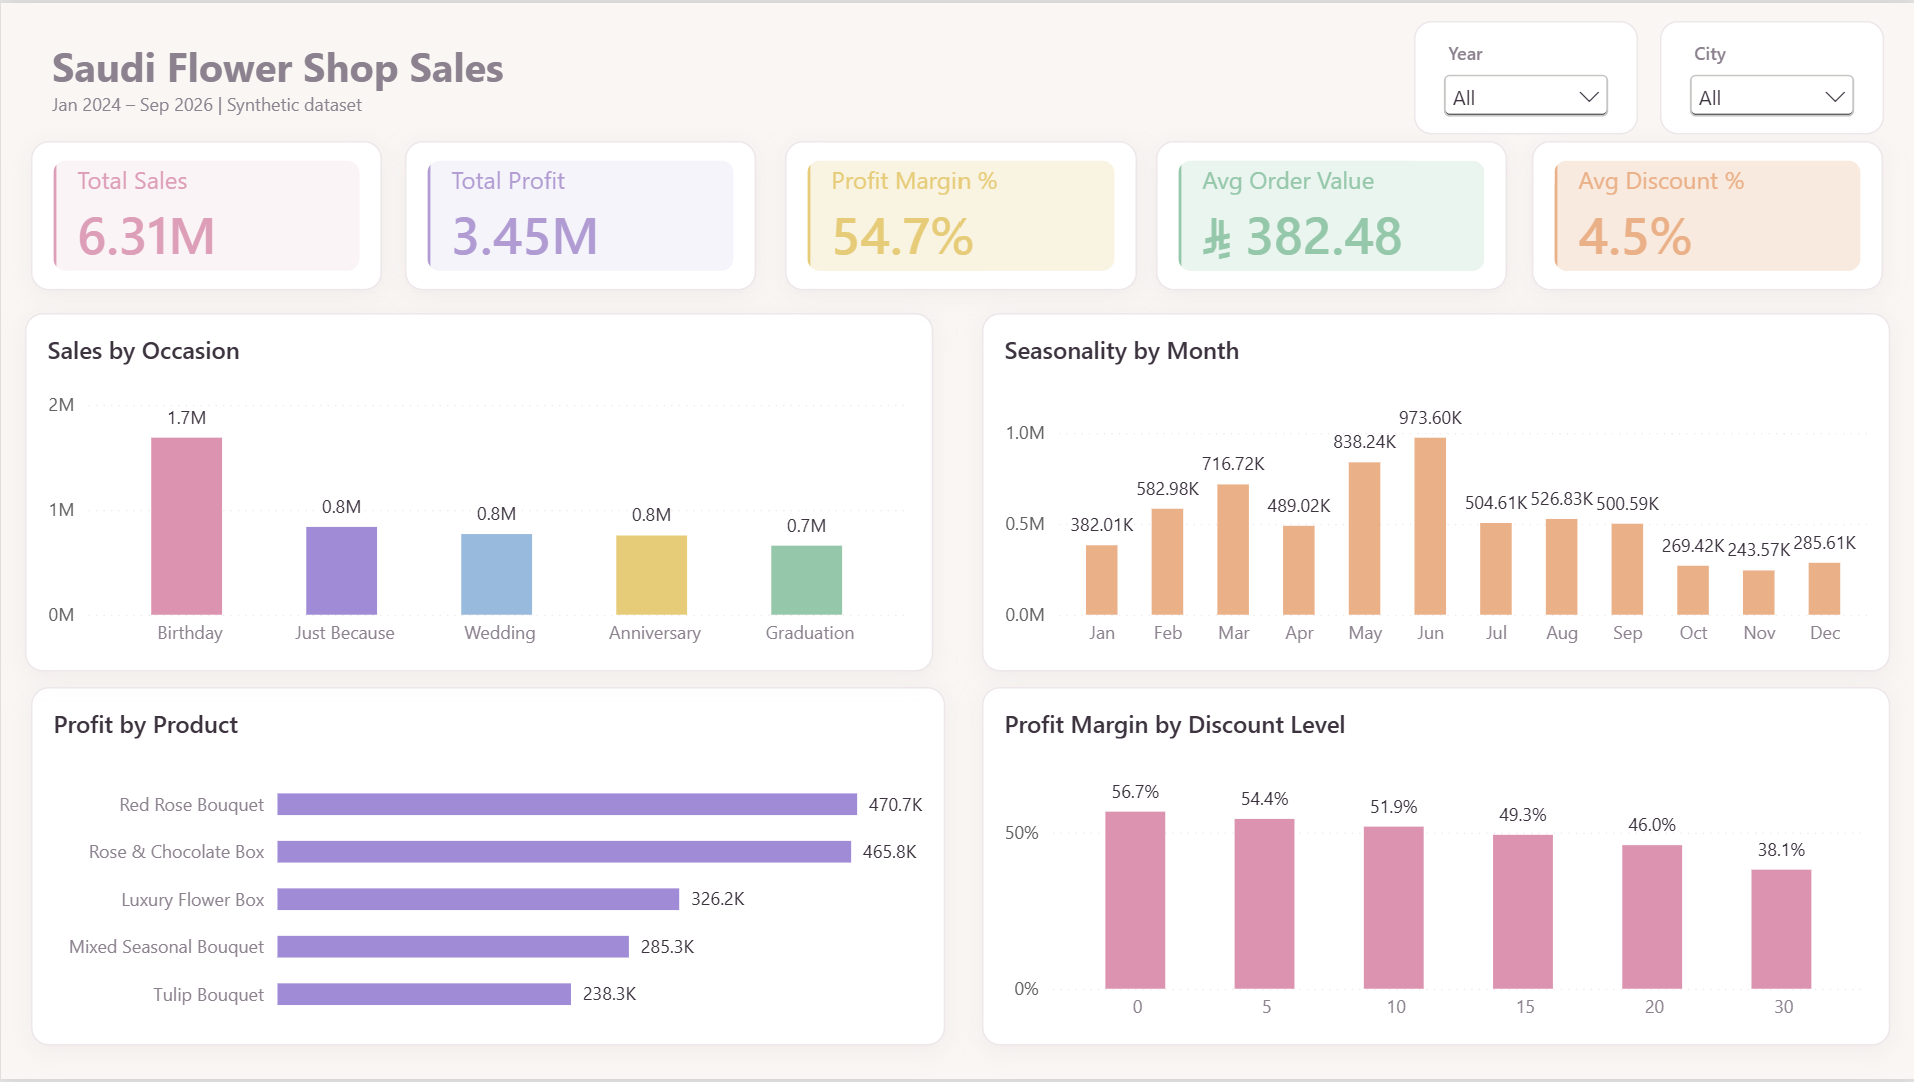

The dashboard page shown, as its layout file describes it:
{"tool":"powerbi","page":{"name":"Occasions & Products","canvas":[1280,720],"ordinal":1},"visuals":[{"type":"textbox","box":[20,12,600,76],"z":0},{"type":"clusteredBarChart","title":"Profit by Product","fields":{"Category":["saudi_flower_shop_sales.product_name"],"Y":["Sum(saudi_flower_shop_sales.Total Profi)"]},"box":[20,458,612,240],"z":1000},{"type":"clusteredColumnChart","title":"Seasonality by Month","fields":{"Category":["Date.Month"],"Y":["saudi_flower_shop_sales.Total Sales"]},"box":[656,208,608,240],"z":2000},{"type":"clusteredColumnChart","title":"Profit Margin by Discount Level","fields":{"Category":["saudi_flower_shop_sales.discount_pct"],"Y":["saudi_flower_shop_sales.Profit Margin %"]},"box":[656,458,608,240],"z":3000},{"type":"slicer","fields":{"Values":["Date.Year"]},"box":[945,12,150,76],"z":4000},{"type":"slicer","fields":{"Values":["saudi_flower_shop_sales.city"]},"box":[1110,12,150,76],"z":5000},{"type":"clusteredColumnChart","title":"Sales by Occasion","fields":{"Category":["saudi_flower_shop_sales.occasion"],"Y":["saudi_flower_shop_sales.Total Sales"]},"box":[16,208,608,240],"z":6000},{"type":"cardVisual","fields":{"Data":["saudi_flower_shop_sales.Total Sales"]},"box":[20,92,235,100],"z":7000},{"type":"cardVisual","fields":{"Data":["saudi_flower_shop_sales.Total Profit"]},"box":[271,92,235,100],"z":8000},{"type":"cardVisual","fields":{"Data":["saudi_flower_shop_sales.Profit Margin %"]},"box":[525,92,235,100],"z":9000},{"type":"cardVisual","fields":{"Data":["saudi_flower_shop_sales.Avg Order Value"]},"box":[773,92,235,100],"z":10000},{"type":"cardVisual","fields":{"Data":["saudi_flower_shop_sales.Avg Discount %"]},"box":[1024,92,235,100],"z":11000}]}

Visuals, with their boxes in screenshot pixels (x1, y1, x2, y2), scaled from the page's 1280x720 canvas onto the 1914x1082 screenshot:
textbox: 30:18:927:132
"Profit by Product" clusteredBarChart: 30:688:945:1049
"Seasonality by Month" clusteredColumnChart: 981:313:1890:673
"Profit Margin by Discount Level" clusteredColumnChart: 981:688:1890:1049
slicer - Date.Year: 1413:18:1637:132
slicer - saudi_flower_shop_sales.city: 1660:18:1884:132
"Sales by Occasion" clusteredColumnChart: 24:313:933:673
cardVisual - saudi_flower_shop_sales.Total Sales: 30:138:381:289
cardVisual - saudi_flower_shop_sales.Total Profit: 405:138:757:289
cardVisual - saudi_flower_shop_sales.Profit Margin %: 785:138:1136:289
cardVisual - saudi_flower_shop_sales.Avg Order Value: 1156:138:1507:289
cardVisual - saudi_flower_shop_sales.Avg Discount %: 1531:138:1883:289
